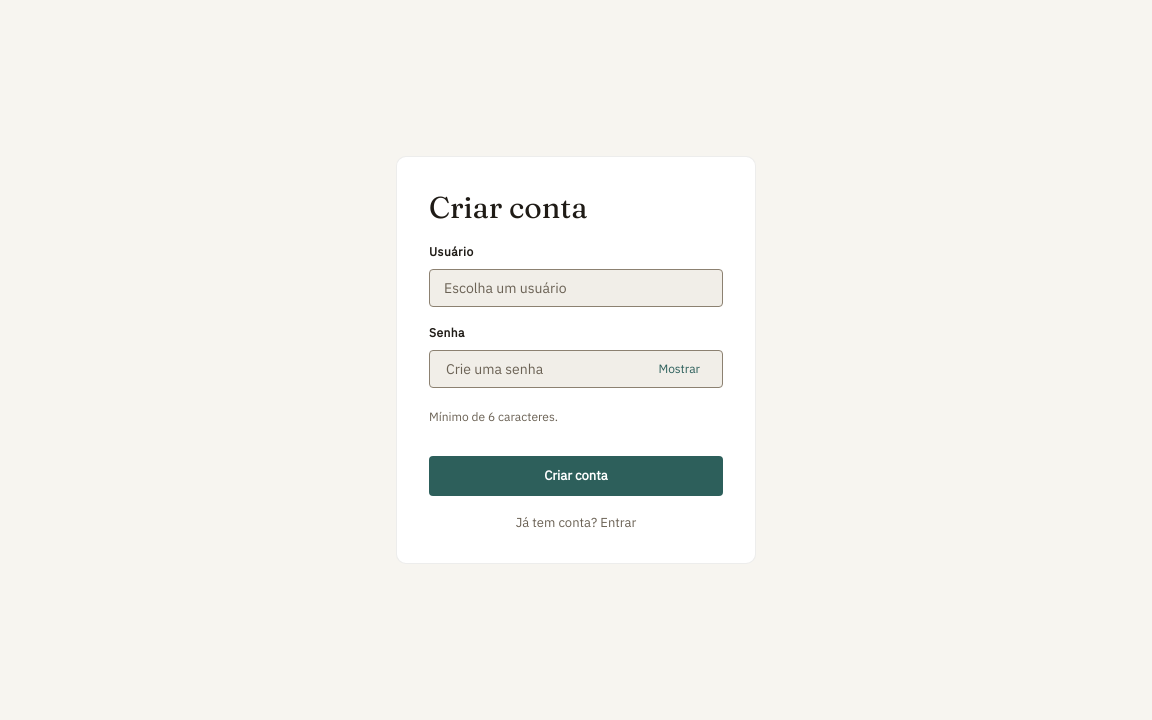
Test: App › completes Cadastro → Login (with a one-time success alert) → /tasks → Logout
Expected: the heading "Criar conta" is shown, [429,189,588,226]
Type "guilherme" into the field labelled "Usuário".
click(576, 288); type("guilherme")  # box [429,269,723,307]
Type "segredo123" into the password field labelled "Senha".
click(543, 369); type("segredo123")  # box [444,351,642,387]
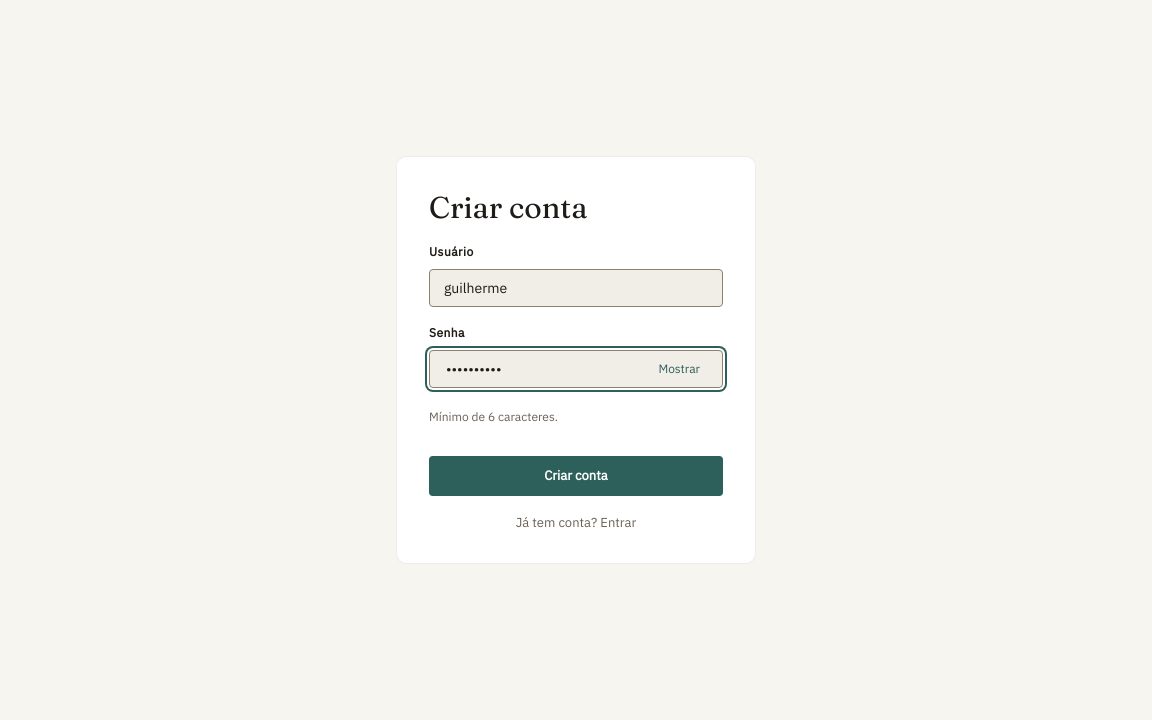
Click the button "Criar conta".
click(576, 476)  # box [429,456,723,496]
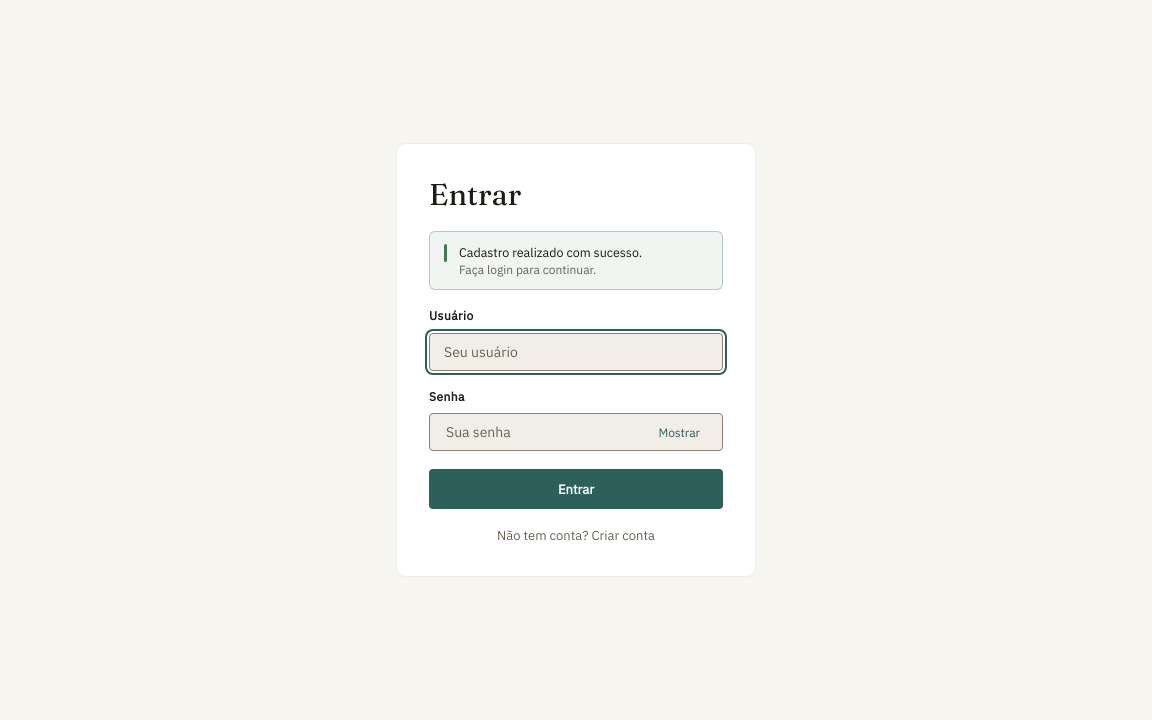
Expected: the heading "Entrar" is shown, [429,176,521,213]
Expected: the text "Cadastro realizado com sucesso." is shown, [459,244,642,260]
Type "guilherme" into the field labelled "Usuário".
click(576, 352); type("guilherme")  # box [429,332,723,370]
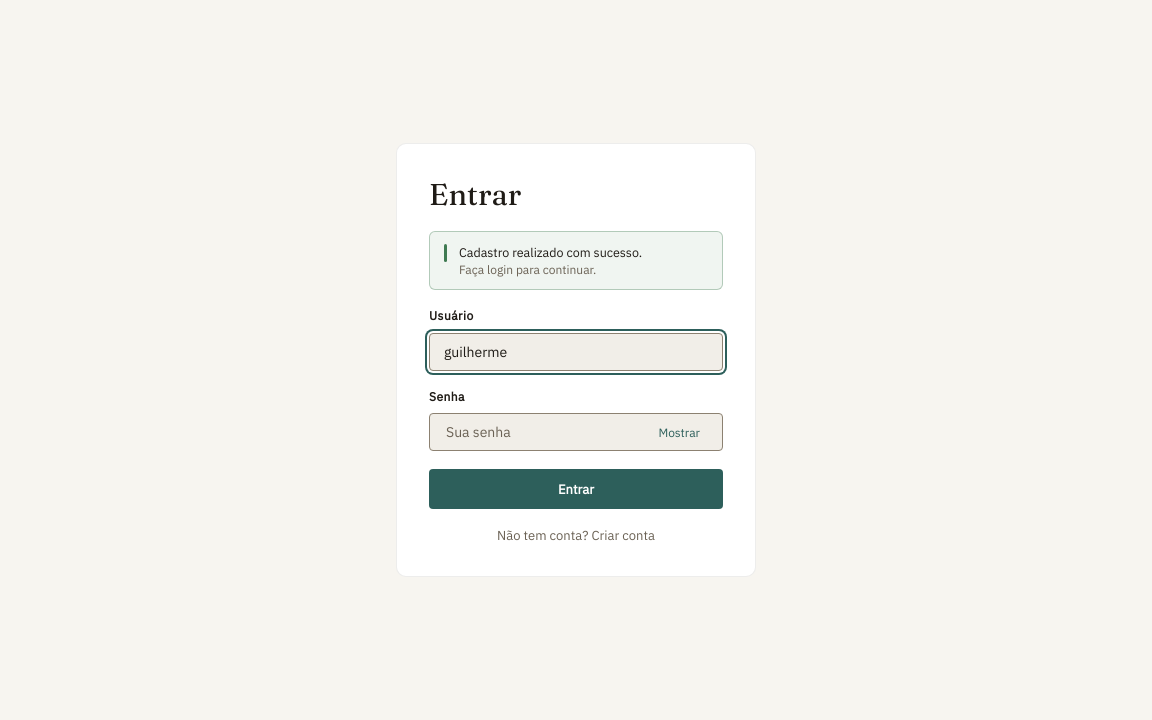
Type "segredo123" into the password field labelled "Senha".
click(543, 432); type("segredo123")  # box [444,414,642,450]
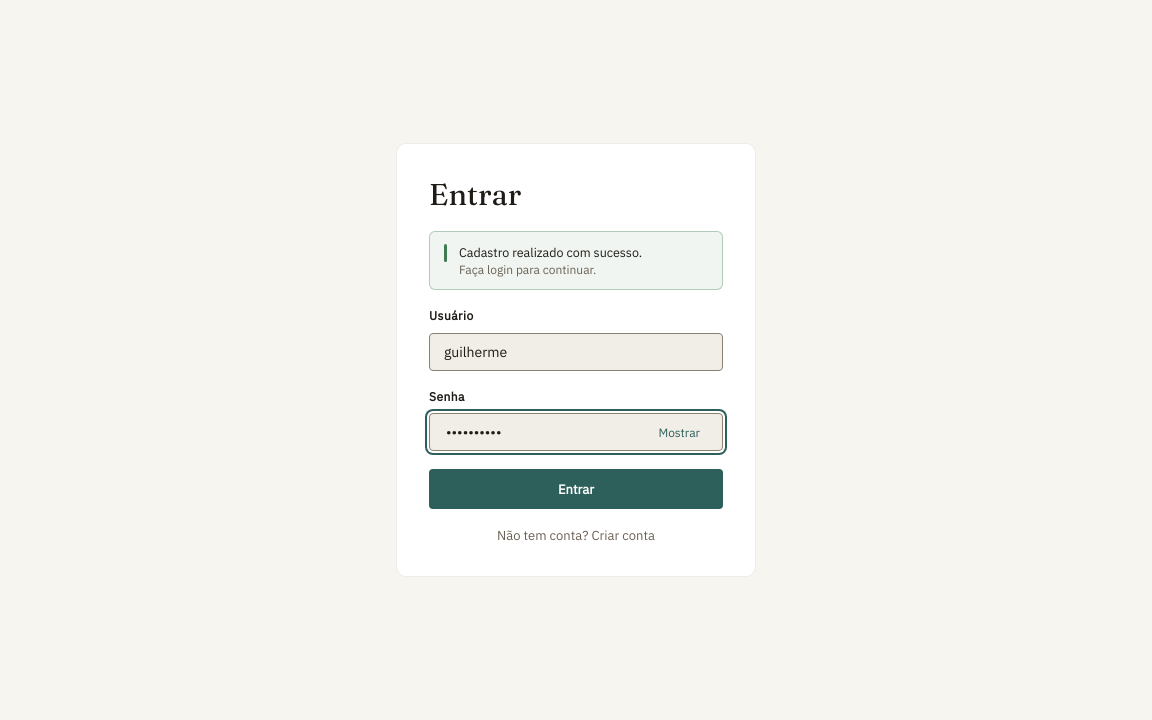
Click the button "Entrar".
click(576, 489)  # box [429,469,723,509]
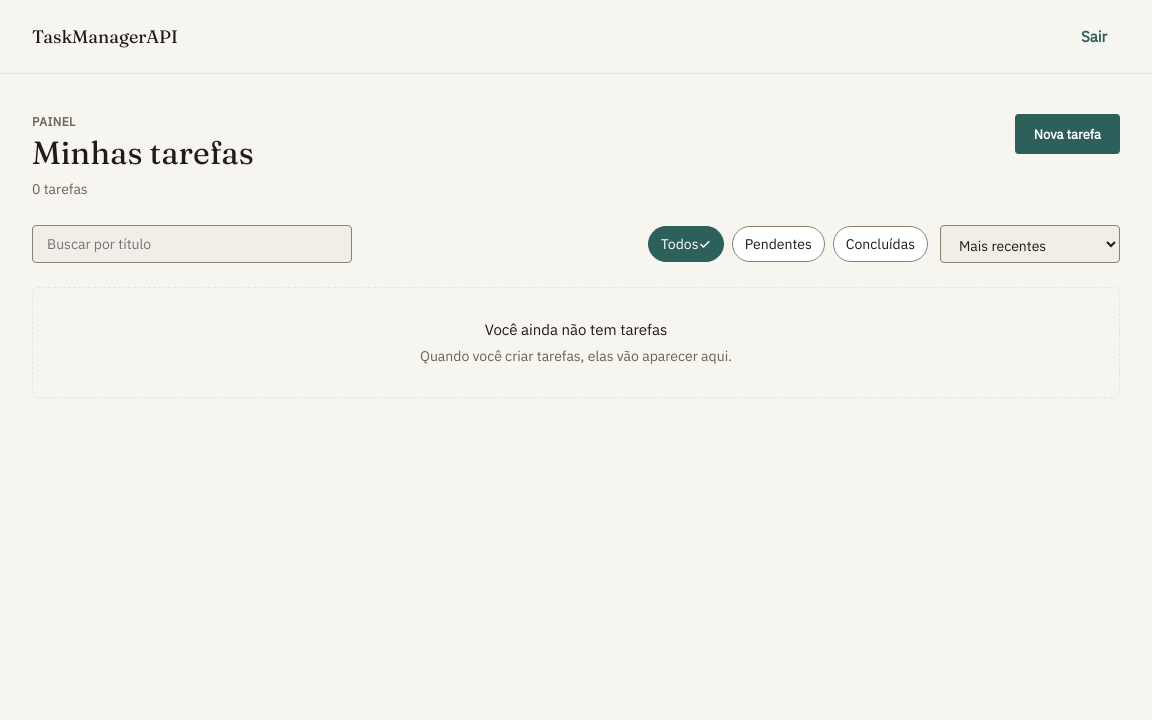
Expected: the heading "Minhas tarefas" is shown, [32,133,254,172]
Click the button "Sair".
click(1094, 36)  # box [1068,18,1120,55]
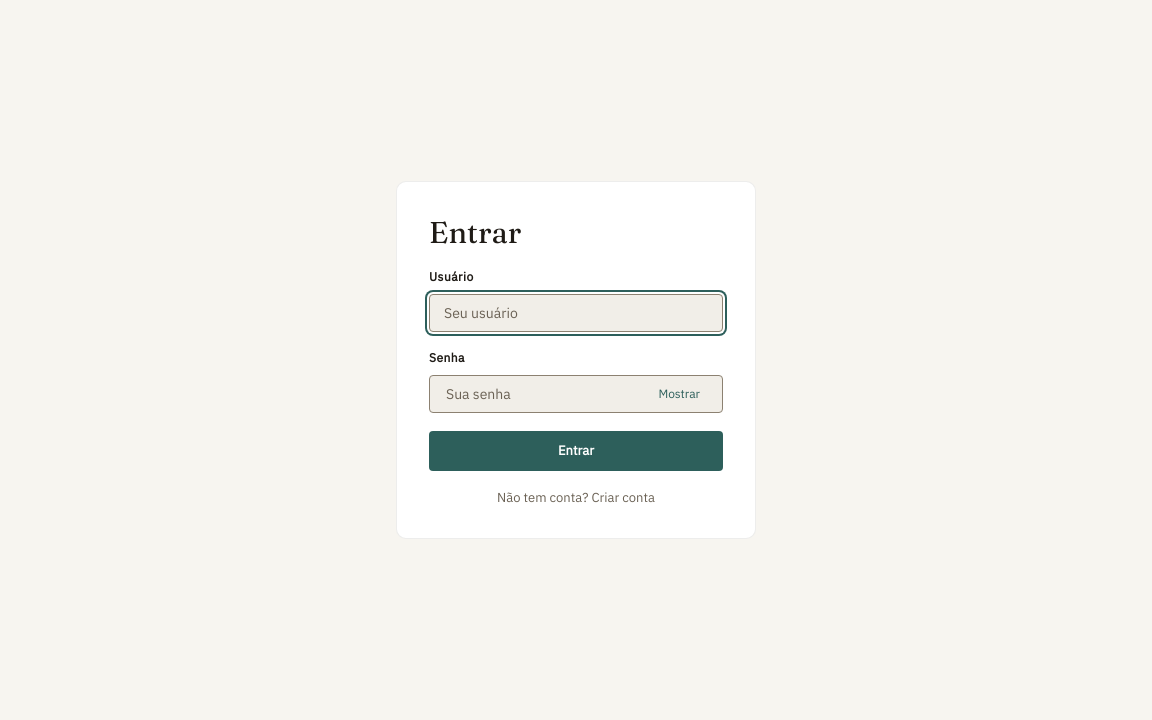
Expected: the text "Cadastro realizado com sucesso." is not shown
Expected: the heading "Entrar" is shown, [429,214,521,251]
